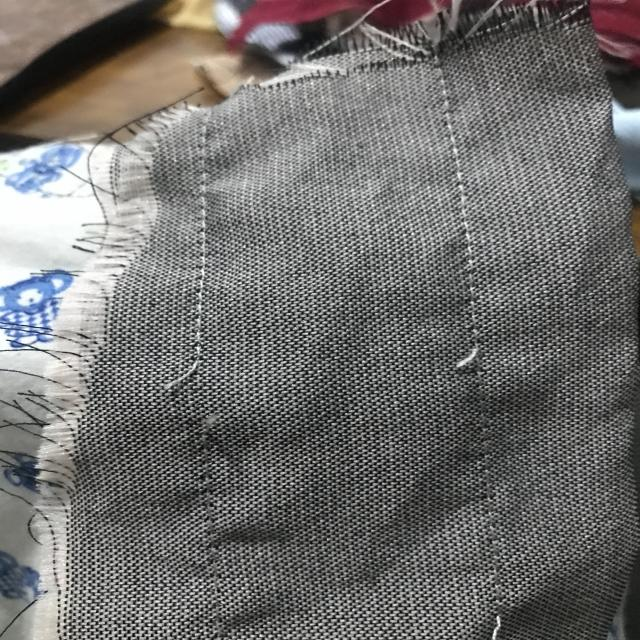broken: (155, 332, 247, 454)
